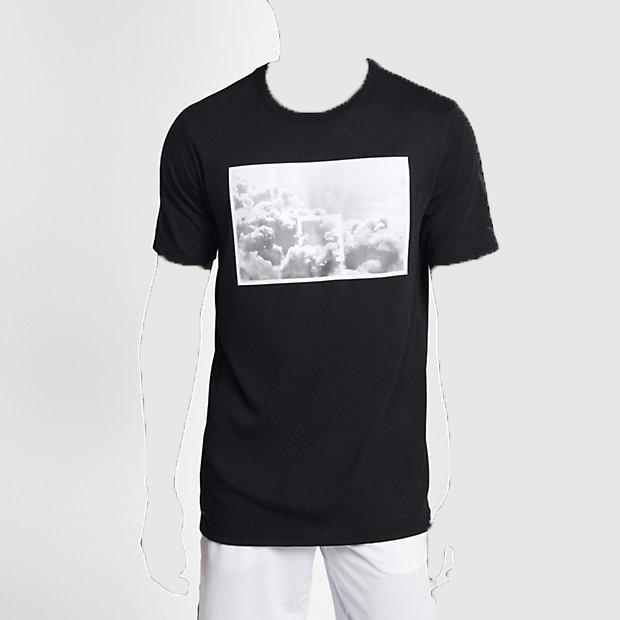teeshirt: (144, 58, 504, 551)
